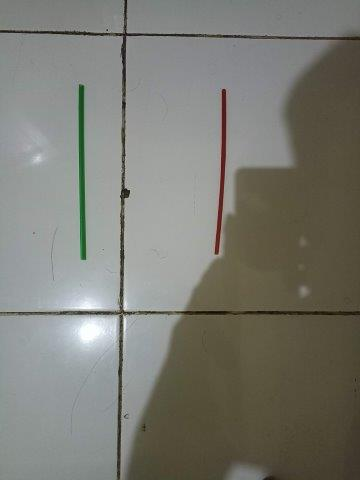sedotan: (215, 89, 227, 254), (79, 85, 86, 261)
